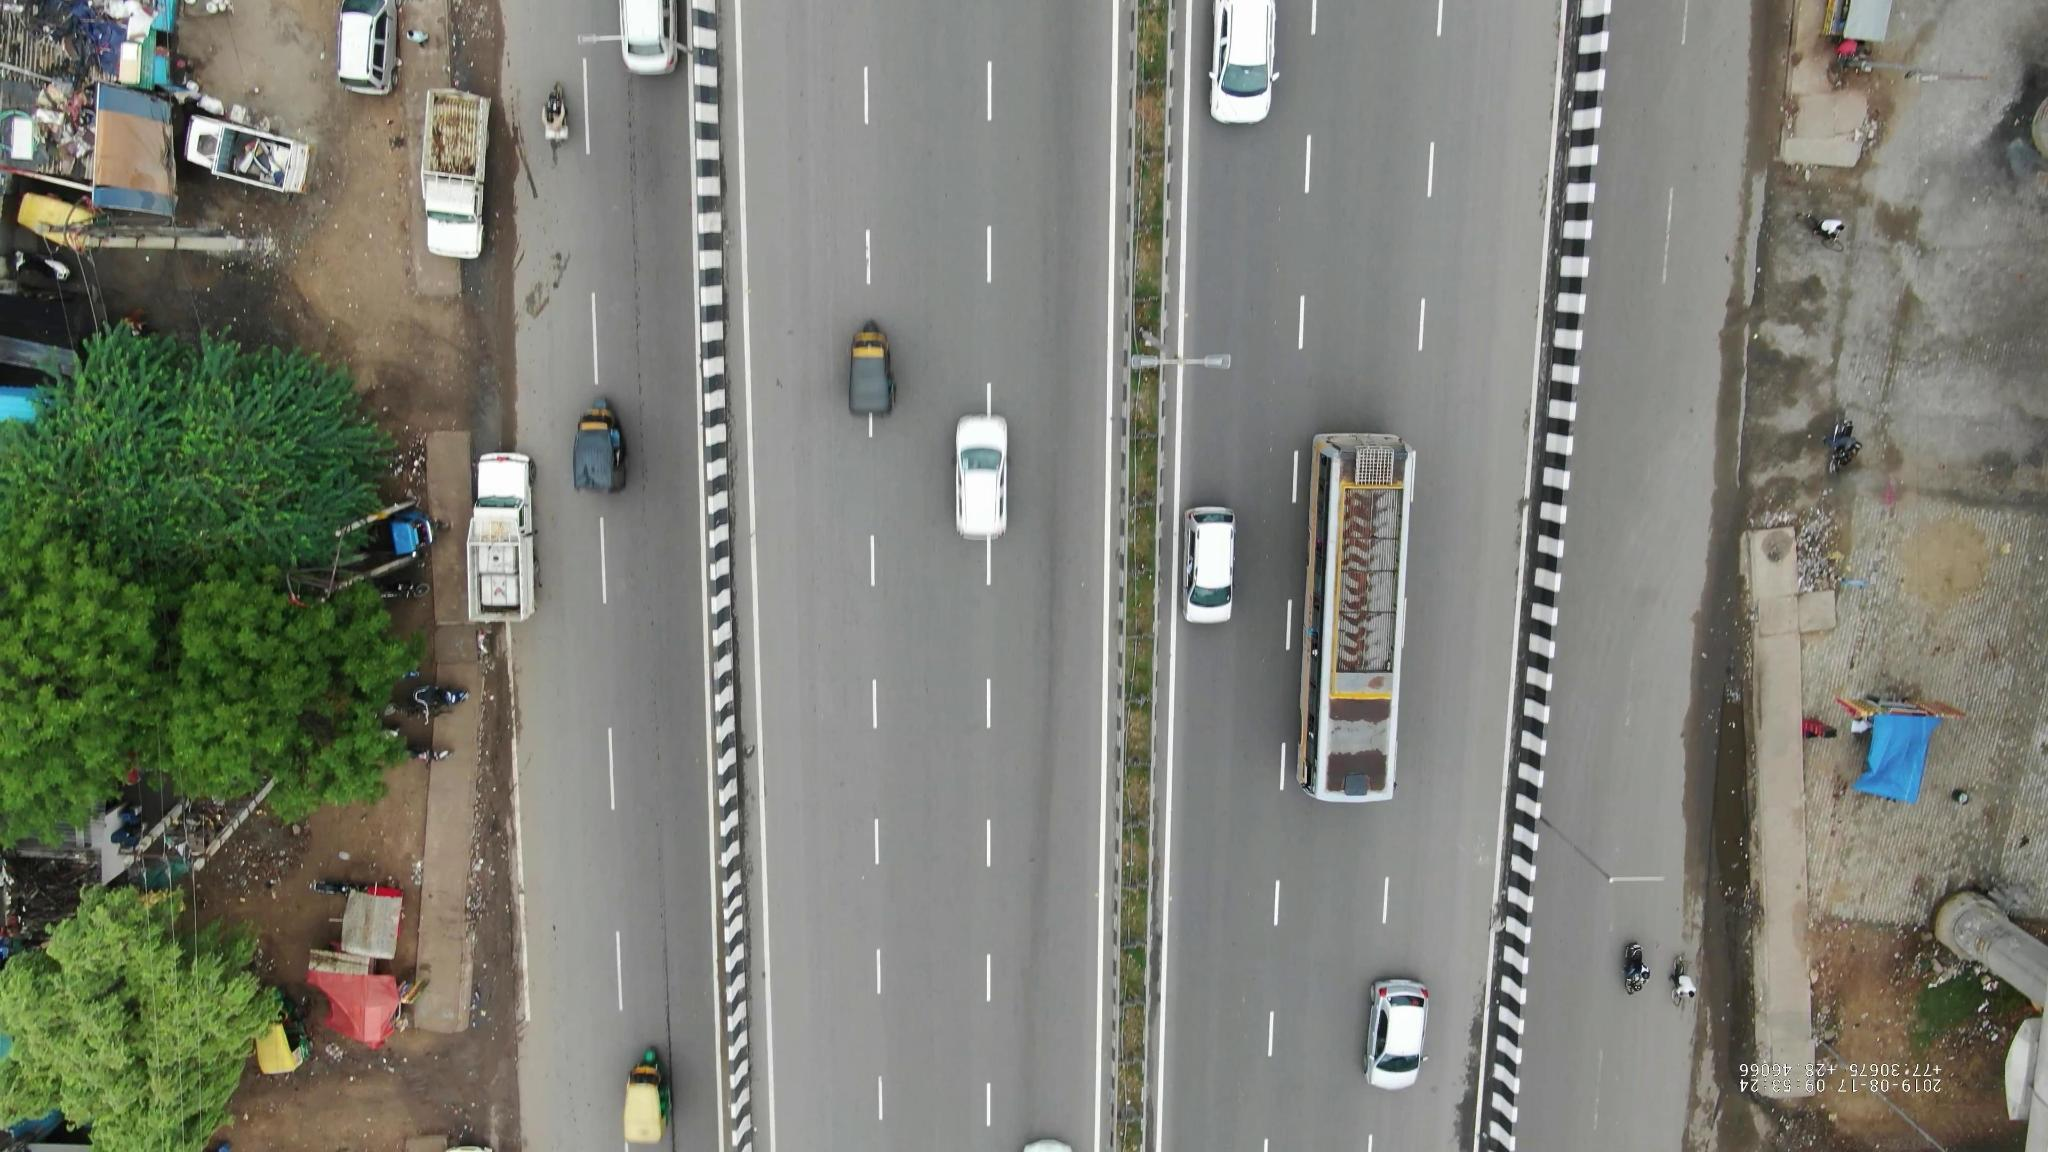Muddy_road: (453, 724, 535, 1032)
Waterlogging: (1703, 672, 1765, 902)
